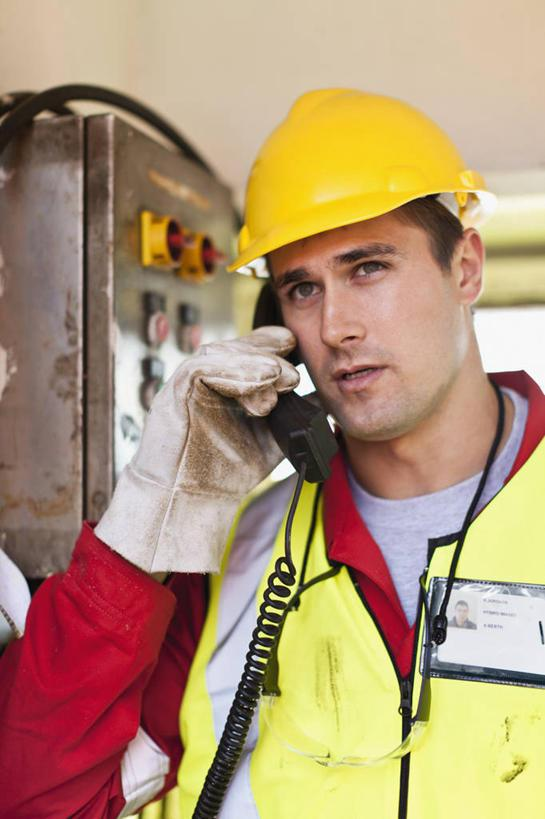helmet: (223, 85, 500, 278)
